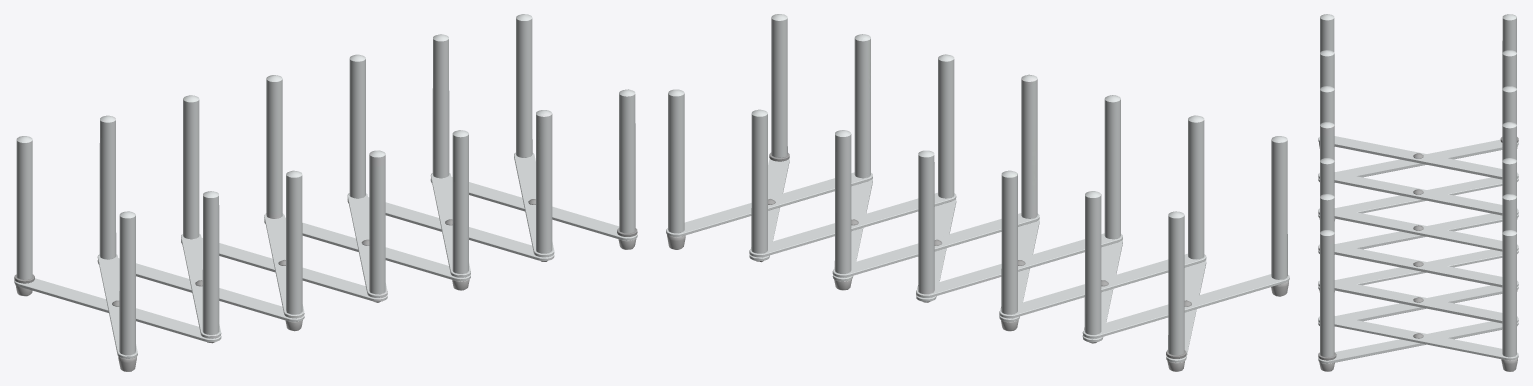
Rendered from VARIERA_70154800.glb.
The picture shows the model from 3 angles, left to right: view 1: azimuth 30°, elevation 25°; view 2: azimuth 150°, elevation 25°; view 3: azimuth 270°, elevation 25°; orthographic projection. The views are drawn at different scales.
Parts seen in each view (by area): view 1: model; view 2: model; view 3: model.
Part boxes in pixels (bbox=[...]): model: bbox=[14, 14, 637, 371]; model: bbox=[666, 14, 1289, 371]; model: bbox=[1318, 14, 1518, 371].
Bounding box in the file's own units: 0.3493 × 0.1013 × 0.1325.
1 material, 1 textured.
